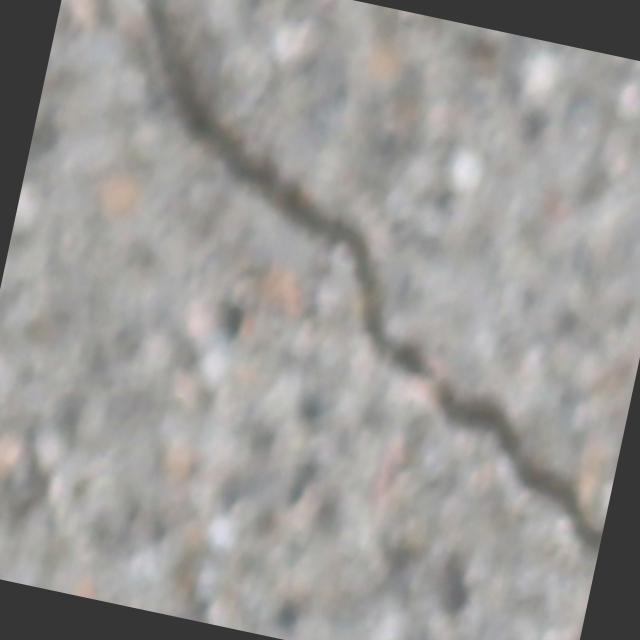crack: (23, 0, 640, 554)
